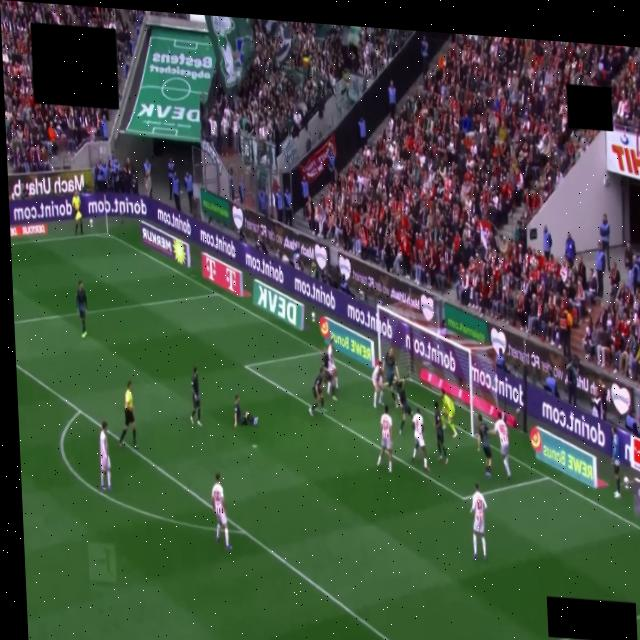player: (211, 473, 231, 550), (491, 412, 510, 480), (470, 483, 486, 559), (376, 405, 392, 472), (412, 408, 428, 471), (383, 348, 399, 407), (477, 414, 491, 478), (395, 380, 411, 434), (433, 402, 447, 463), (233, 394, 257, 428), (99, 422, 110, 490), (308, 367, 323, 415), (441, 390, 456, 437), (190, 366, 200, 425), (327, 342, 337, 400), (371, 361, 383, 409), (76, 281, 86, 338), (320, 349, 331, 385)
referee: (118, 381, 137, 448)
